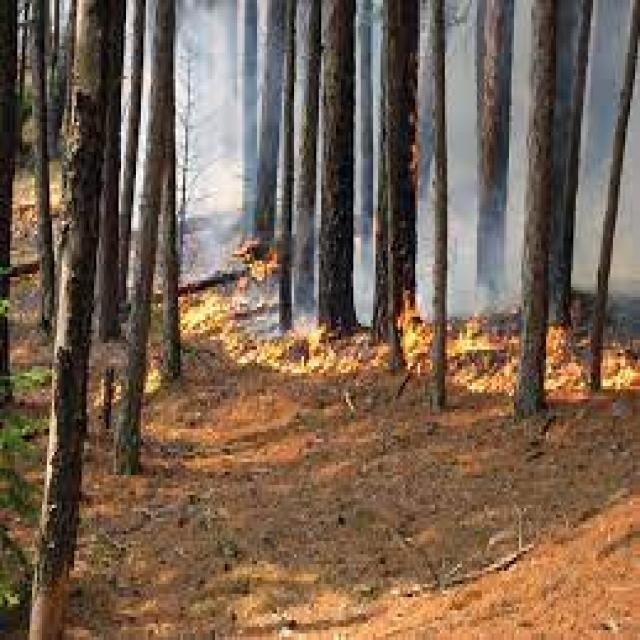Fire: (177, 286, 327, 388), (282, 316, 381, 388), (455, 303, 520, 409), (545, 320, 594, 416), (396, 283, 438, 386), (599, 328, 640, 402), (234, 229, 278, 296)
Smoke: (180, 6, 252, 280), (455, 231, 518, 308)
